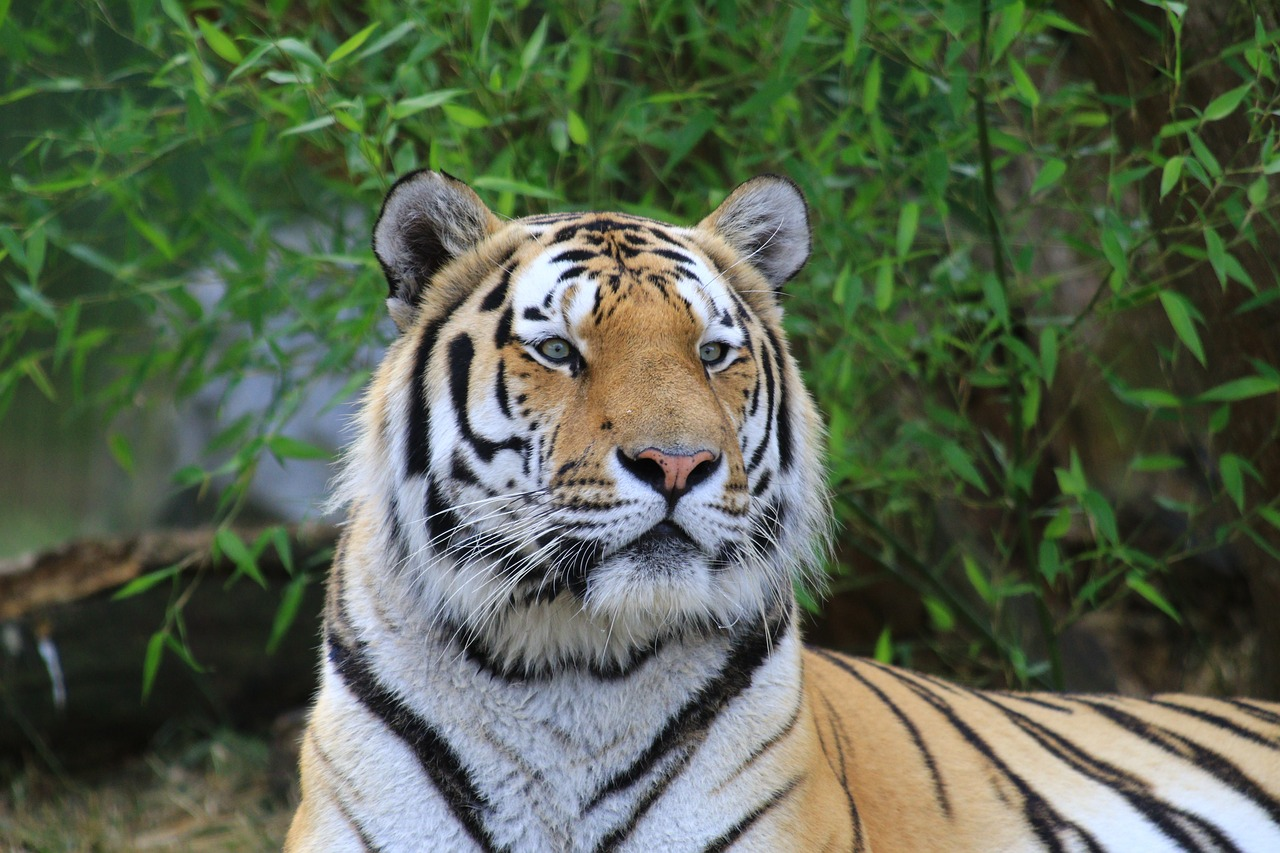tiger: (325, 144, 901, 666)
